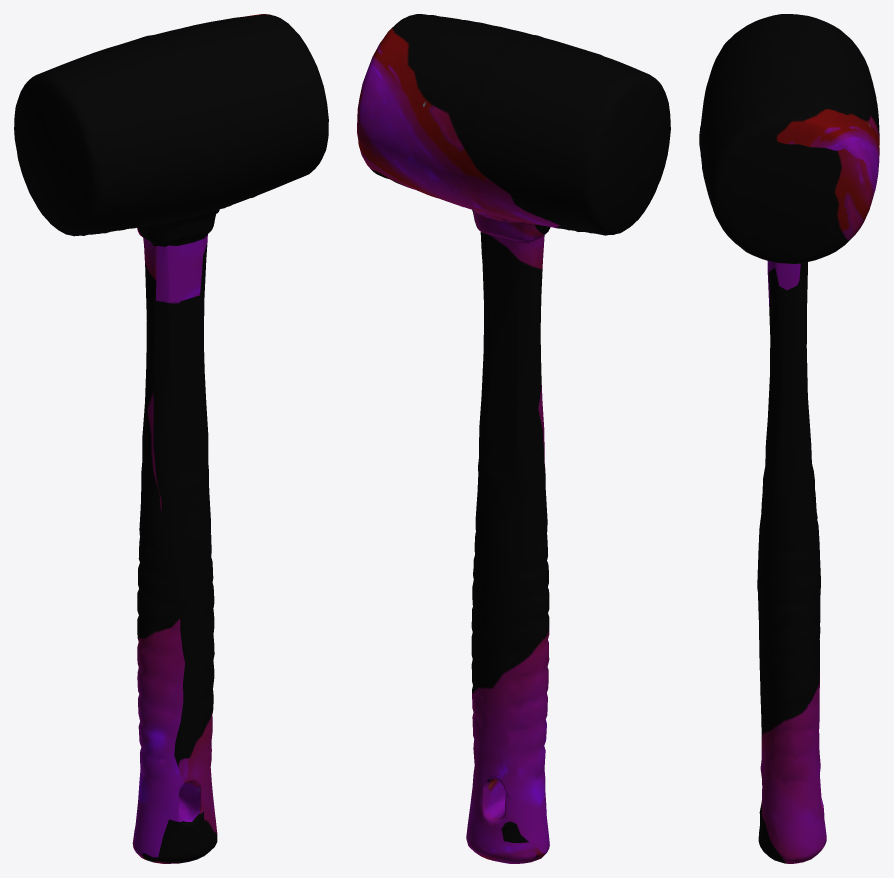
3 views of the same model, side by side, from view 1: azimuth 30°, elevation 25°; view 2: azimuth 150°, elevation 25°; view 3: azimuth 270°, elevation 25° (orthographic). The views are drawn at different scales.
Parts seen in each view (by area): view 1: model.007; view 2: model.007; view 3: model.007.
Part boxes in pixels (x1=…): model.007: x1=14, y1=14, x2=328, y2=863; model.007: x1=357, y1=14, x2=670, y2=863; model.007: x1=699, y1=14, x2=879, y2=863.
Bounding box in the file's own units: 0.0951 × 0.2903 × 0.06.
